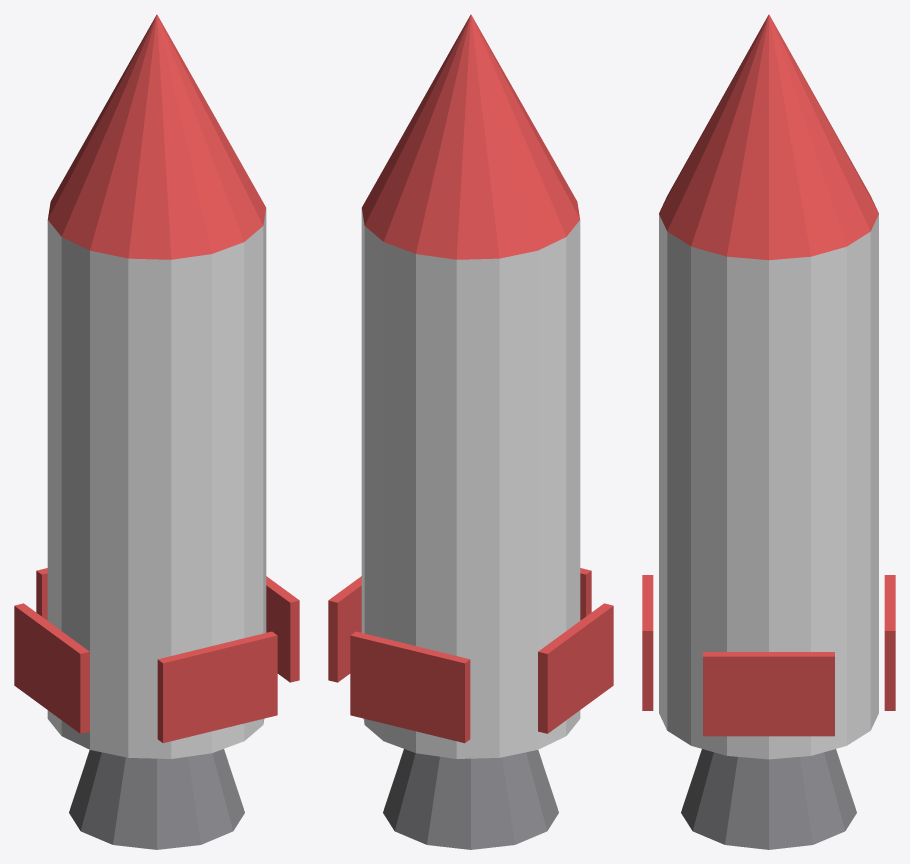
The model's file is spaceship.glb.
3 views of the same model, side by side, from view 1: azimuth 30°, elevation 25°; view 2: azimuth 150°, elevation 25°; view 3: azimuth 270°, elevation 25° (orthographic).
Parts seen in each view (by area): view 1: Body, NoseCone, Engine, Fin_4, Fin_3, Fin_1, Fin_2; view 2: Body, NoseCone, Engine, Fin_2, Fin_3, Fin_1, Fin_4; view 3: Body, NoseCone, Engine, Fin_1, Fin_2, Fin_4.
Boxes of the visible parts, box(x1,y1,x2,y2) form: Body: box(47, 208, 266, 758); NoseCone: box(47, 14, 265, 259); Engine: box(69, 749, 244, 849); Fin_4: box(157, 631, 277, 743); Fin_3: box(14, 603, 89, 733); Fin_1: box(266, 576, 299, 682); Fin_2: box(36, 568, 47, 620); Body: box(361, 208, 580, 758); NoseCone: box(362, 14, 580, 259); Engine: box(383, 749, 558, 849); Fin_2: box(350, 631, 470, 743); Fin_3: box(538, 603, 613, 733); Fin_1: box(328, 576, 361, 682); Fin_4: box(580, 568, 591, 620); Body: box(659, 214, 878, 759); NoseCone: box(659, 14, 878, 260); Engine: box(681, 749, 856, 849); Fin_1: box(703, 652, 834, 736); Fin_2: box(884, 575, 895, 710); Fin_4: box(642, 575, 653, 710).
Bounding box in the file's own units: 1.15 × 4 × 1.15.
